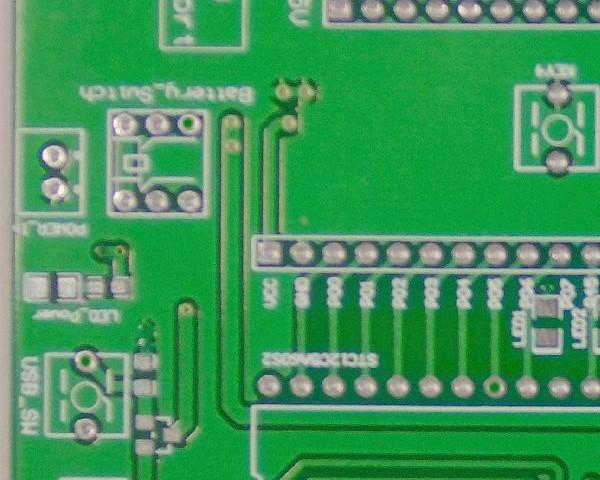missing hole: (174, 110, 208, 137), (482, 372, 509, 402), (72, 348, 100, 374)
